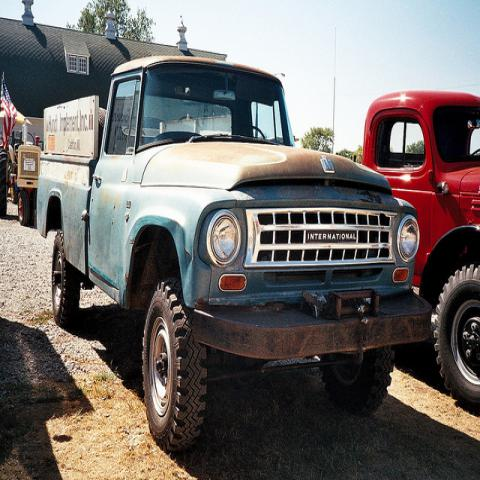truck: (38, 55, 418, 451), (362, 89, 480, 410)
